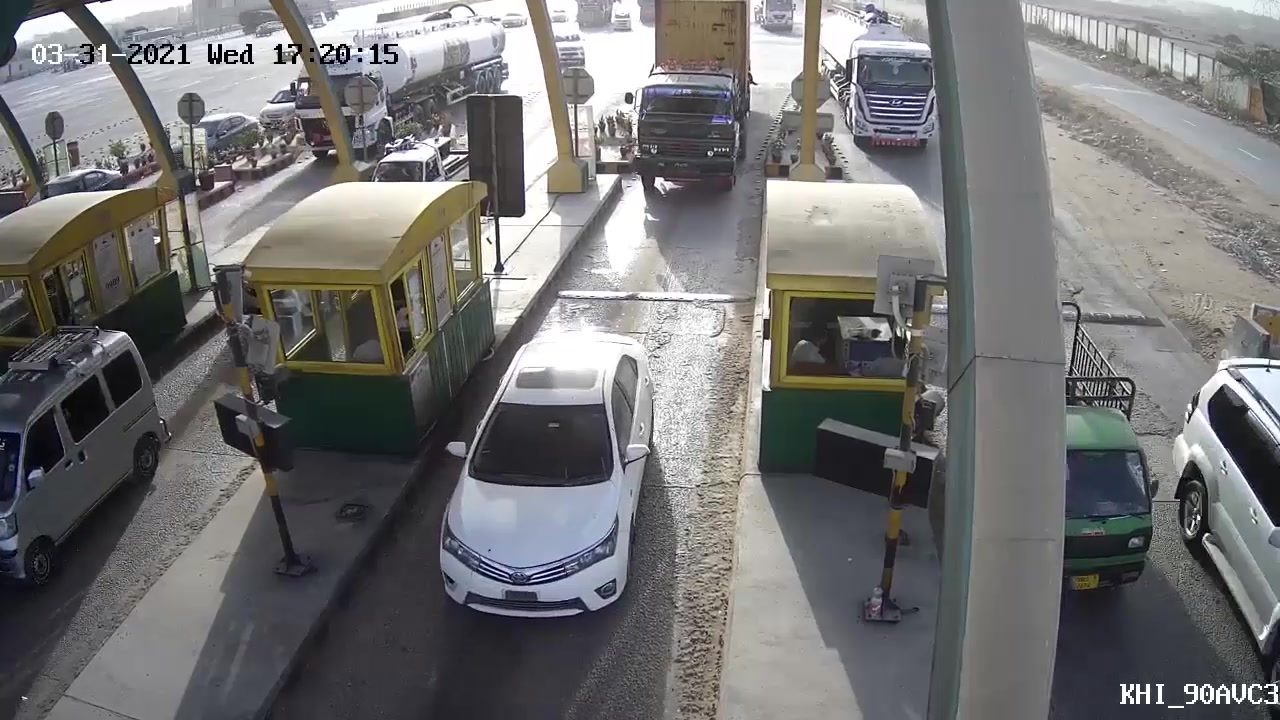F1: (433, 321, 663, 639)
